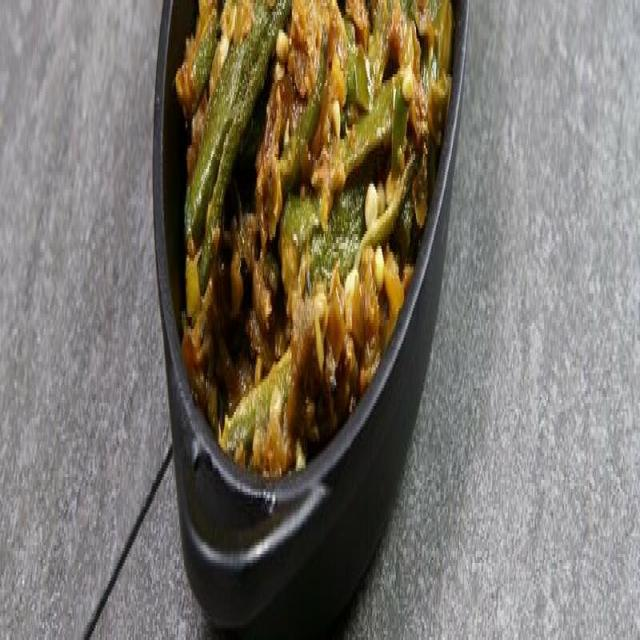BhindiMasala: (175, 0, 452, 477)
